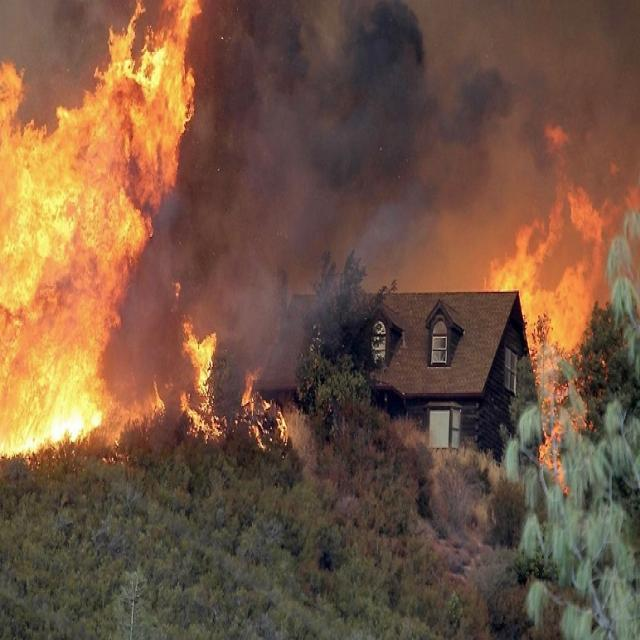Fire: (2, 116, 104, 440), (108, 5, 191, 219), (522, 220, 590, 353)
